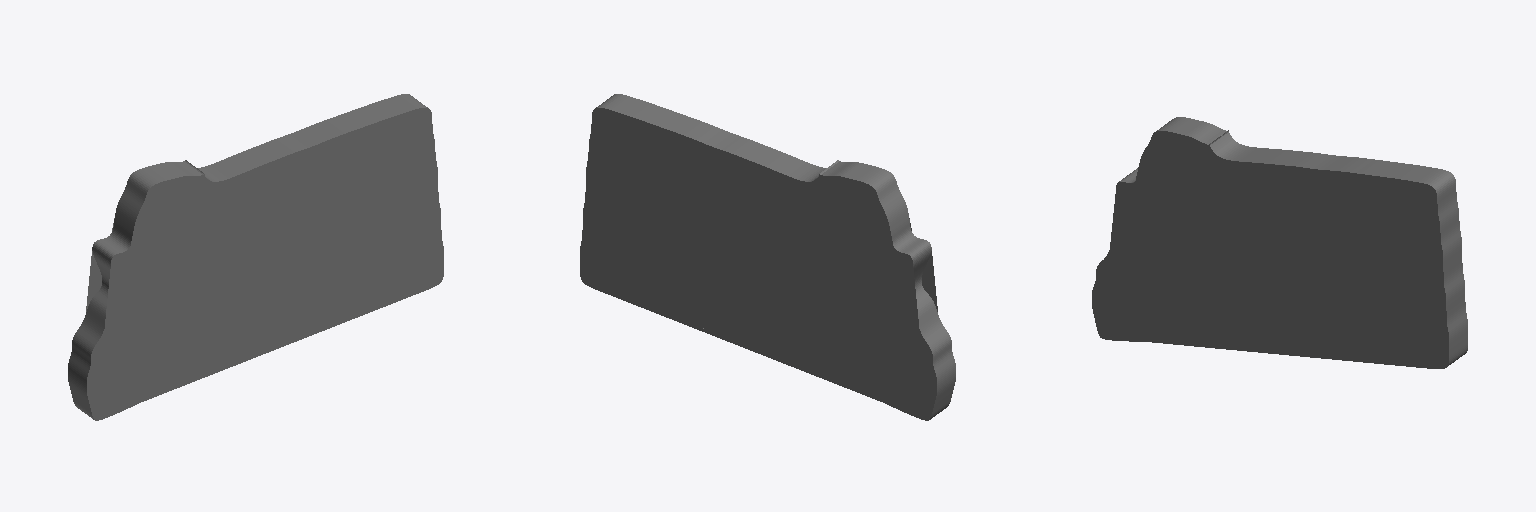
3 views of the same model, side by side, from view 1: azimuth 30°, elevation 25°; view 2: azimuth 150°, elevation 25°; view 3: azimuth 330°, elevation 25° (orthographic).
Parts seen in each view (by area): view 1: 平面; view 2: 平面; view 3: 平面.
Boxes of the visible parts, box(x1,y1,x2,y2) form: 平面: box(68, 94, 443, 420); 平面: box(580, 94, 955, 420); 平面: box(1092, 117, 1467, 368).
Size of the model in its own units: 2.18 by 1.36 by 0.2.